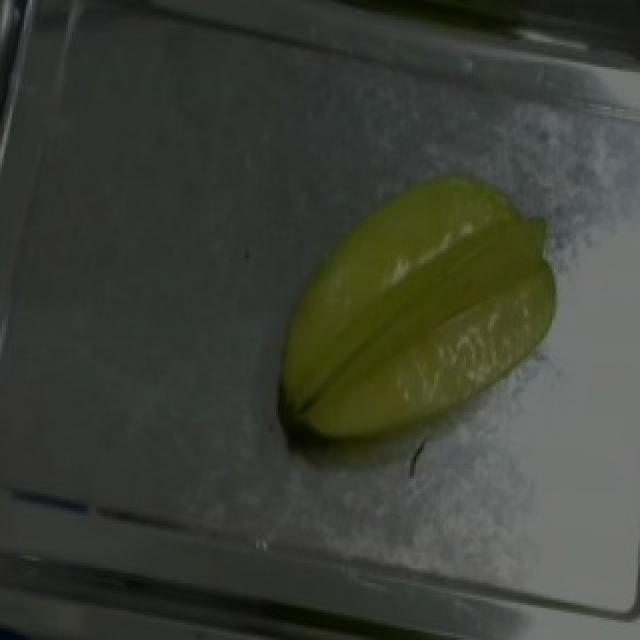fruit: (248, 134, 596, 474)
